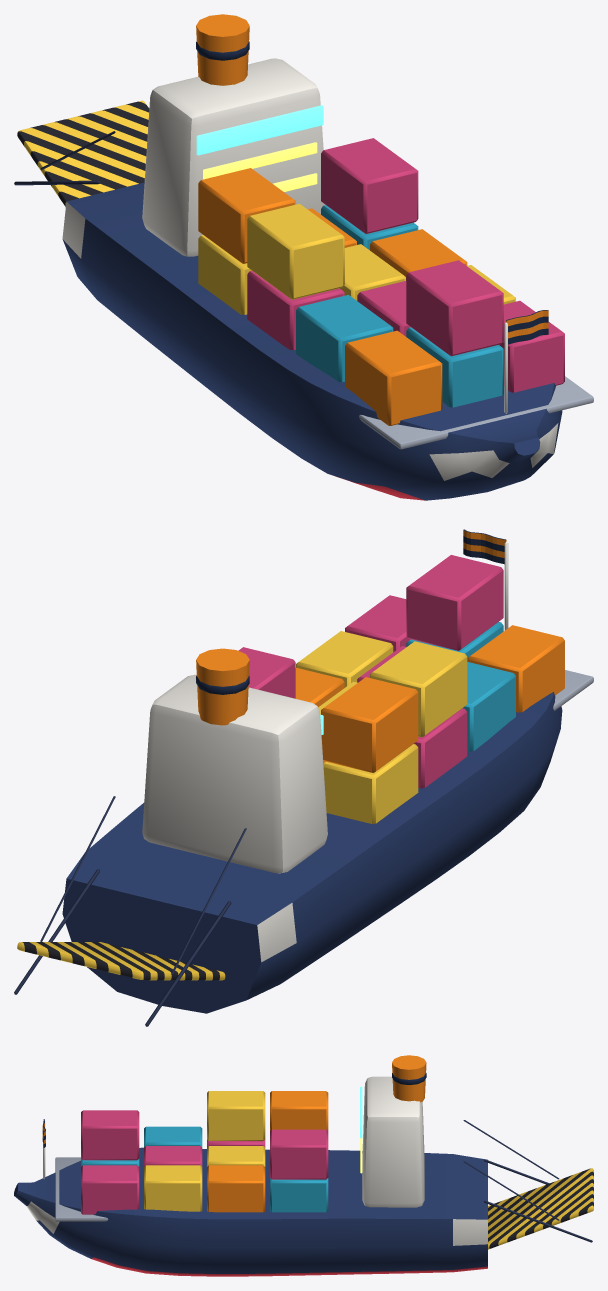
The model's file is W1_CargoShip.fbx.
3 renders of one model, top to bottom at view 1: azimuth 30°, elevation 25°; view 2: azimuth 150°, elevation 25°; view 3: azimuth 270°, elevation 25°, orthographic. The views are drawn at different scales.
Visible parts, largest first — view 1: Static, Flag; view 2: Static, Flag; view 3: Static.
Part boxes in pixels (left/top/right/bottom): Static: left=14, top=14, right=593, bottom=500; Flag: left=506, top=310, right=548, bottom=344; Static: left=14, top=541, right=593, bottom=1026; Flag: left=463, top=529, right=506, bottom=564; Static: left=14, top=1055, right=593, bottom=1276.
Size of the model in its own units: 11 by 14.03 by 36.86.
